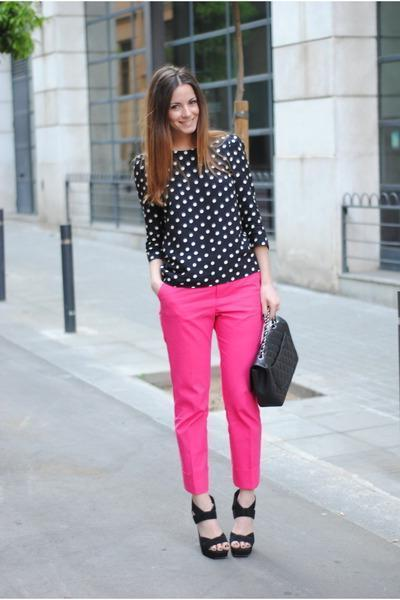long sleeve shirt: (133, 137, 271, 286)
trousers: (159, 264, 268, 492)
